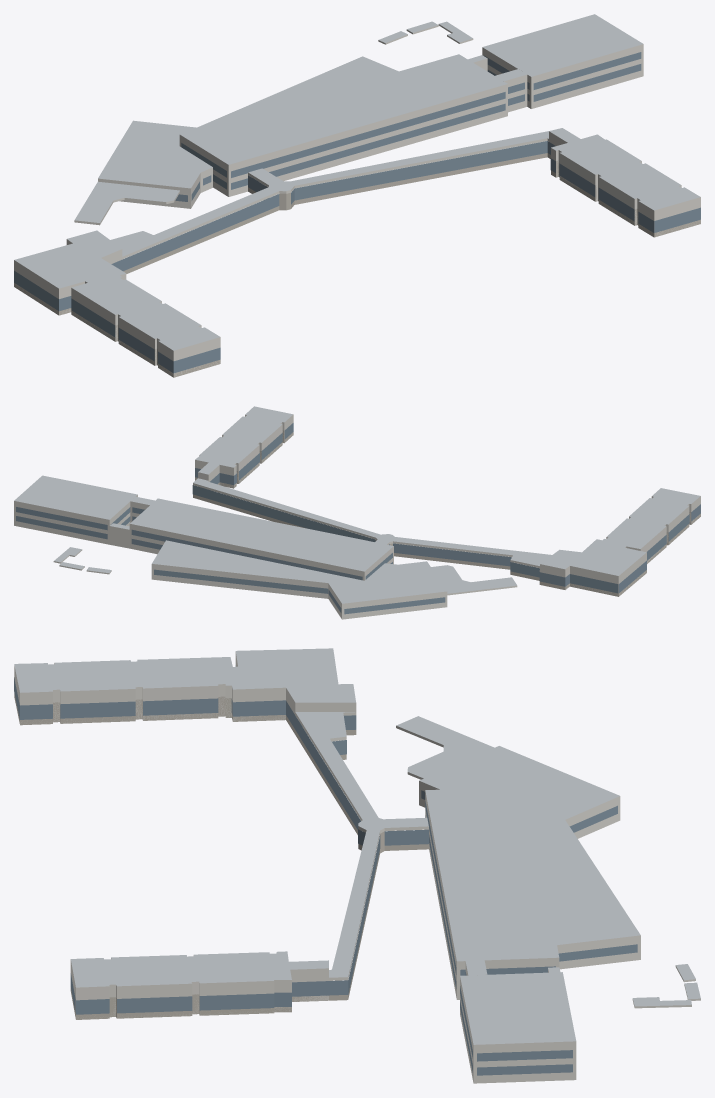
The model's file is paris-cdg-terminal-2g.glb.
3 views of the same model, one above another, from view 1: azimuth 30°, elevation 25°; view 2: azimuth 150°, elevation 25°; view 3: azimuth 270°, elevation 25° (orthographic). The views are drawn at different scales.
Visible parts, largest first — view 1: Paris-CDG Terminal 2G; view 2: Paris-CDG Terminal 2G; view 3: Paris-CDG Terminal 2G.
Boxes of the visible parts, left/top/right/bottom form: Paris-CDG Terminal 2G: left=14, top=14, right=700, bottom=377; Paris-CDG Terminal 2G: left=14, top=406, right=700, bottom=619; Paris-CDG Terminal 2G: left=14, top=648, right=700, bottom=1083.
Bounding box in the file's own units: 275 × 12.3 × 198.
